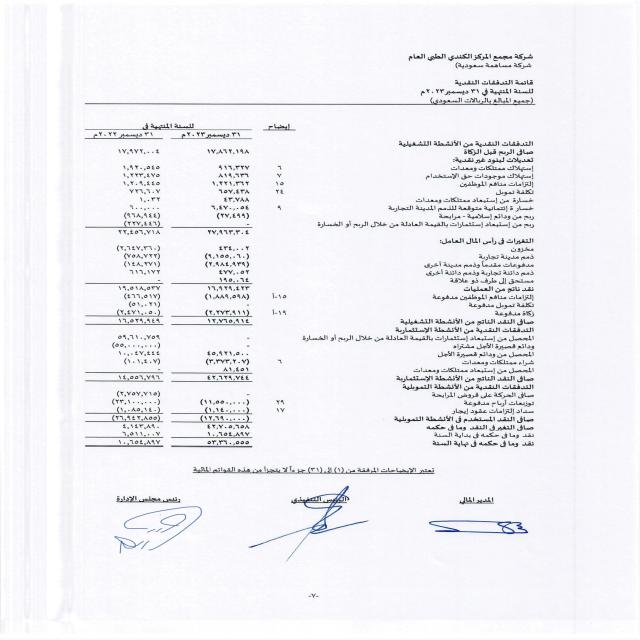financial_sheets: (441, 80, 536, 87)
table: (64, 110, 298, 465)
